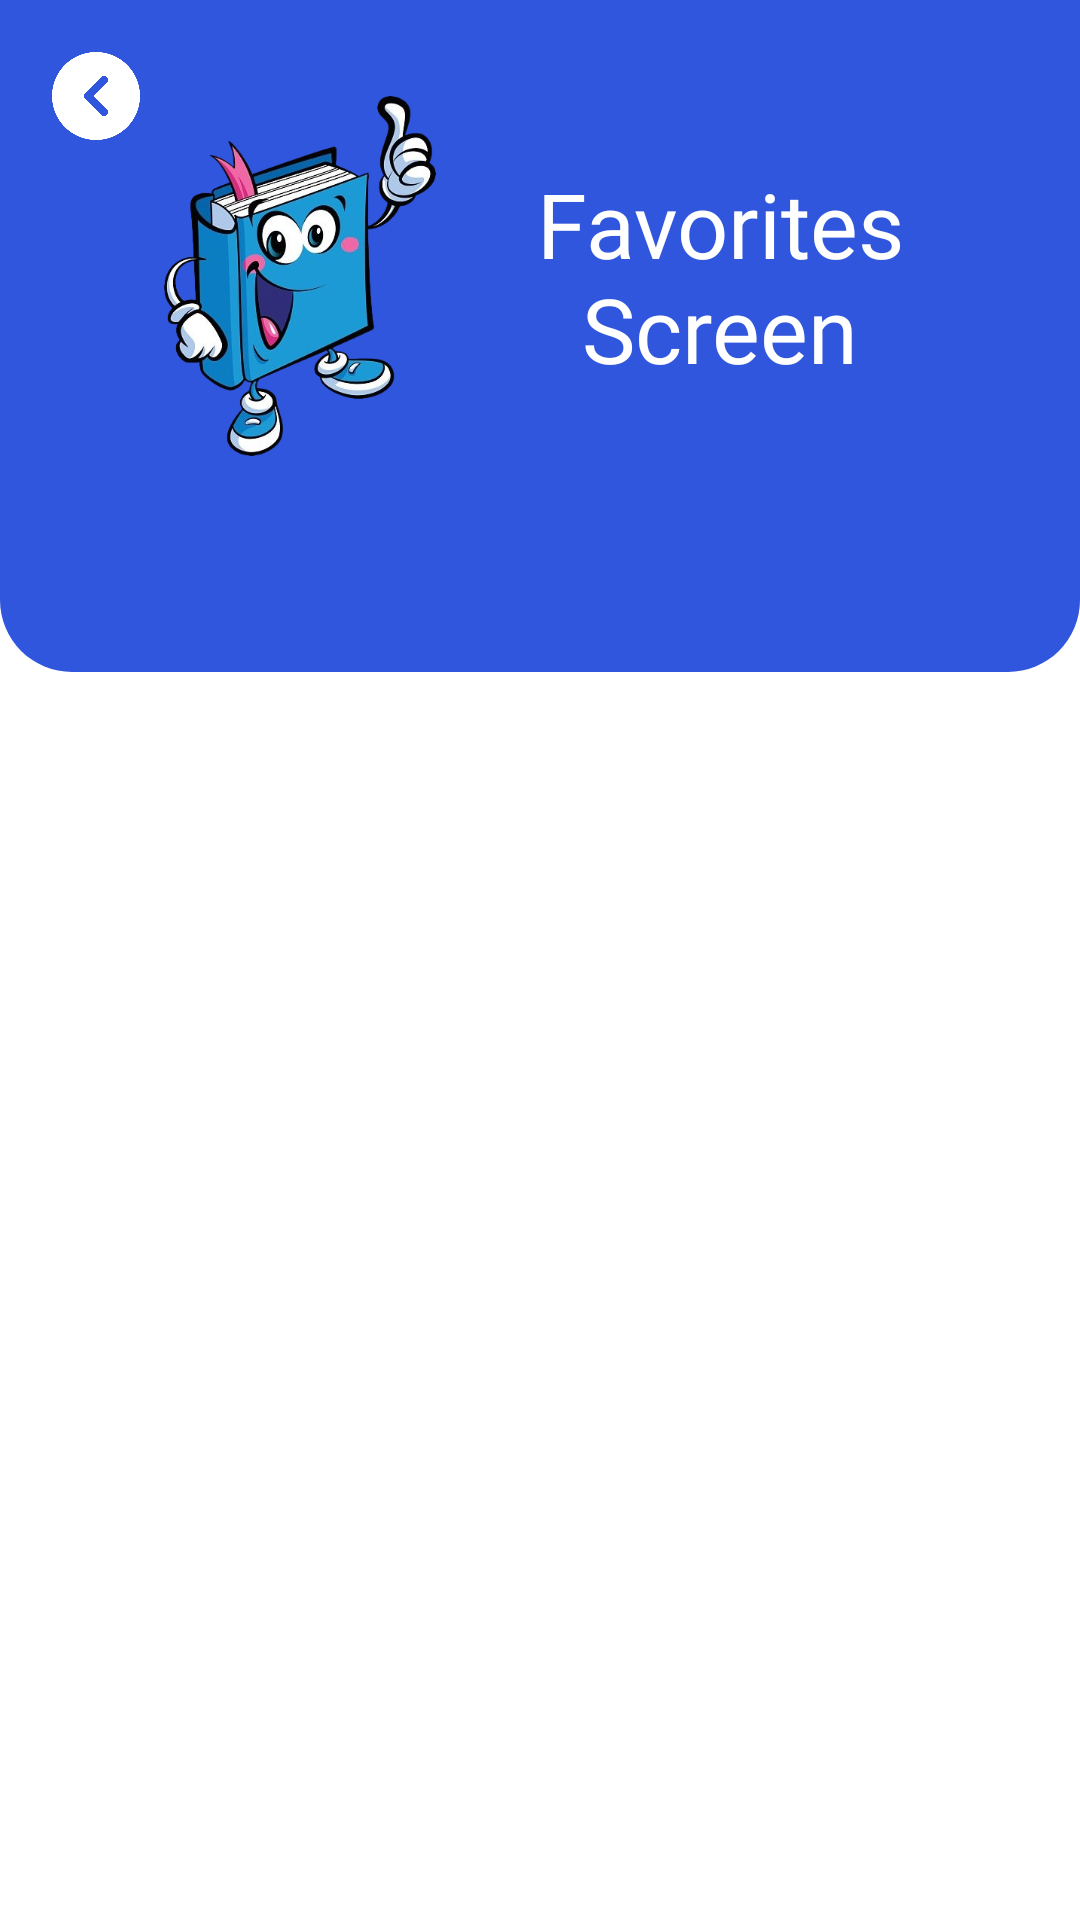

Point at icon controls on the screen. Image size 1080 x 1920, points as [x,y].
book favorites: [300,276]
